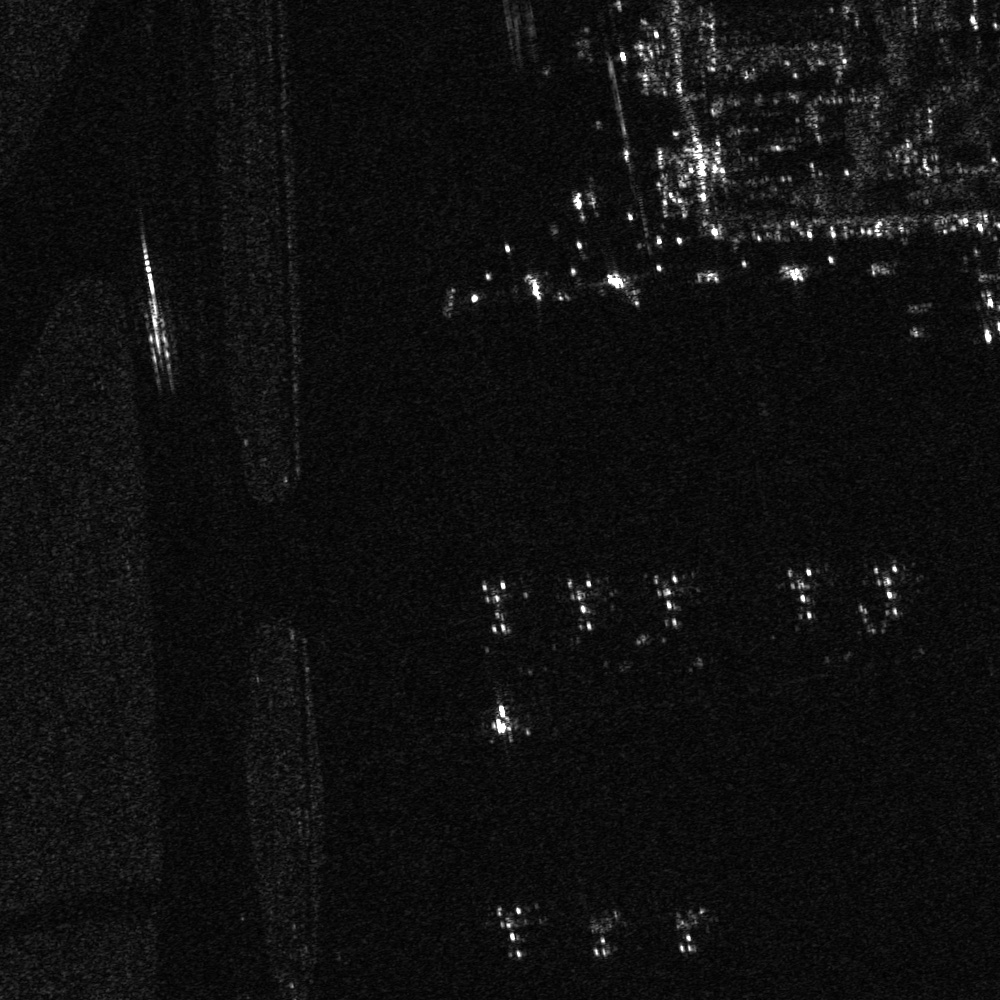A220: (575, 900, 626, 961)
A320/321: (661, 900, 715, 958)
ARJ21: (476, 896, 545, 964), (957, 266, 999, 346), (473, 692, 527, 748)
Boeing737: (589, 262, 655, 312)
other: (852, 555, 922, 625), (638, 563, 700, 639), (469, 572, 529, 639), (557, 565, 608, 639), (775, 559, 824, 629)
